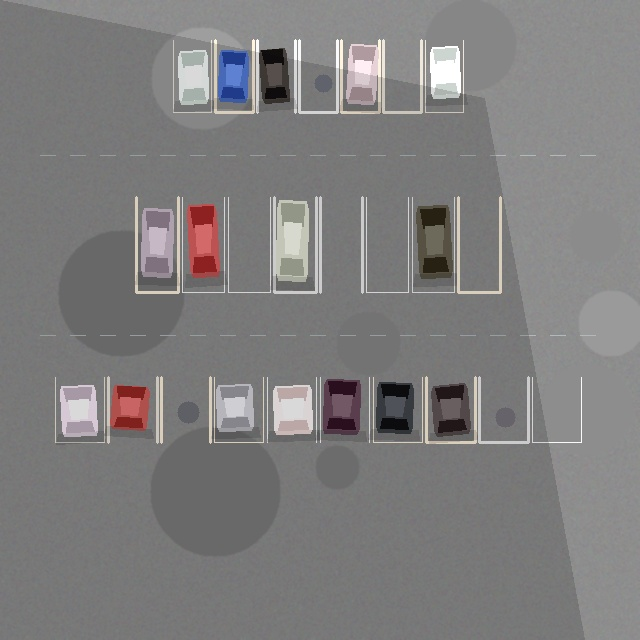space-empty: (228, 197, 270, 292), (320, 197, 362, 292), (366, 197, 408, 292), (458, 197, 500, 292), (161, 377, 210, 442), (479, 377, 528, 442), (532, 377, 581, 442), (299, 40, 337, 112), (383, 40, 421, 112)
space-occupied: (136, 197, 178, 292), (182, 197, 224, 292), (274, 197, 316, 292), (412, 197, 454, 292), (55, 377, 104, 442), (108, 377, 157, 442), (214, 377, 263, 442), (267, 377, 316, 442), (320, 377, 369, 442), (373, 377, 422, 442), (426, 377, 475, 442), (173, 40, 211, 112), (215, 40, 253, 112), (257, 40, 295, 112), (341, 40, 379, 112), (425, 40, 463, 112)
